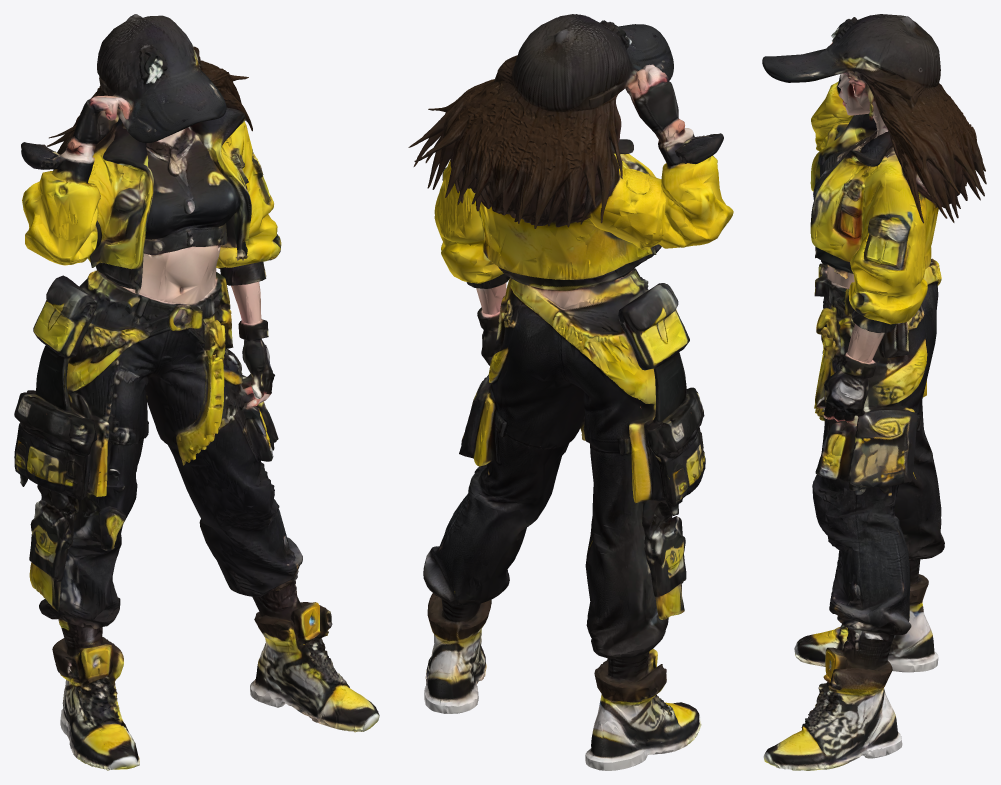
File: blaze.glb
3 views of the same model, side by side, from view 1: azimuth 30°, elevation 25°; view 2: azimuth 150°, elevation 25°; view 3: azimuth 270°, elevation 25° (orthographic). The views are drawn at different scales.
Parts seen in each view (by area): view 1: model; view 2: model; view 3: model.
Boxes of the visible parts, x1,y1,x2,y2 form: model: (14,14,379,770); model: (408,14,733,770); model: (762,14,986,770).
Size of the model in its own units: 0.885 by 1.9 by 0.5734.
Materials: 1 (1 with a texture image).
